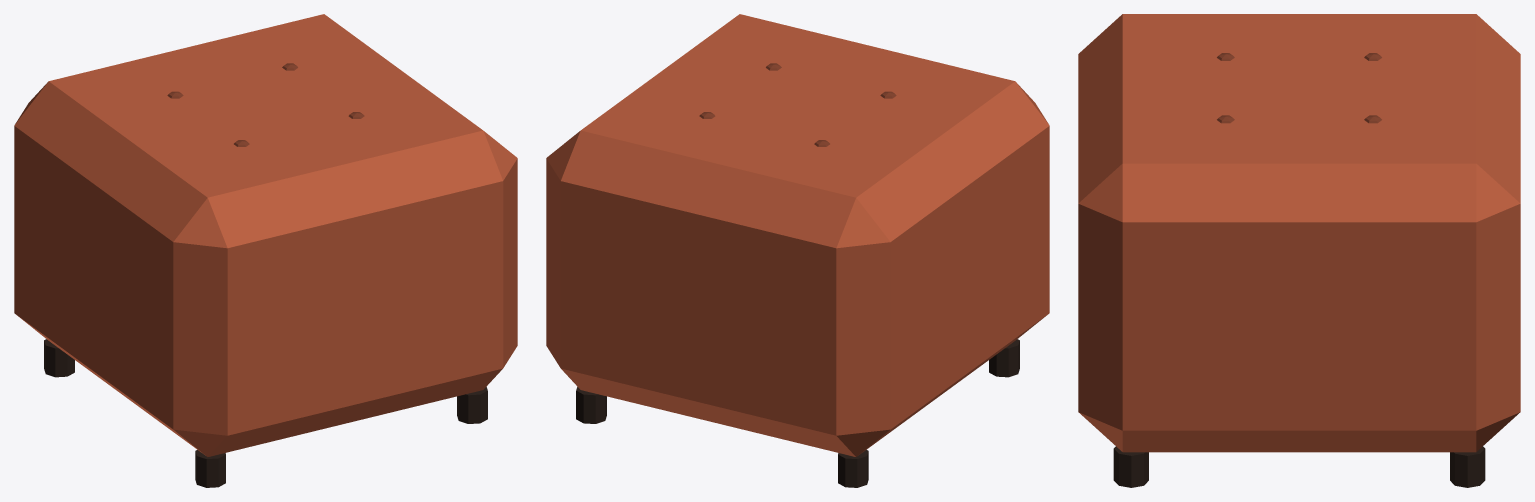
The model's file is ottoman.glb.
3 renders of one model, left to right at view 1: azimuth 30°, elevation 25°; view 2: azimuth 150°, elevation 25°; view 3: azimuth 270°, elevation 25°, orthographic. The views are drawn at different scales.
Parts seen in each view (by area): view 1: ottoman; view 2: ottoman; view 3: ottoman.
Part boxes in pixels (x1,y1,x2,y2): ottoman: (14,14,517,487); ottoman: (546,14,1049,487); ottoman: (1078,14,1520,487).
Size of the model in its own units: 0.5 by 0.404 by 0.5.
